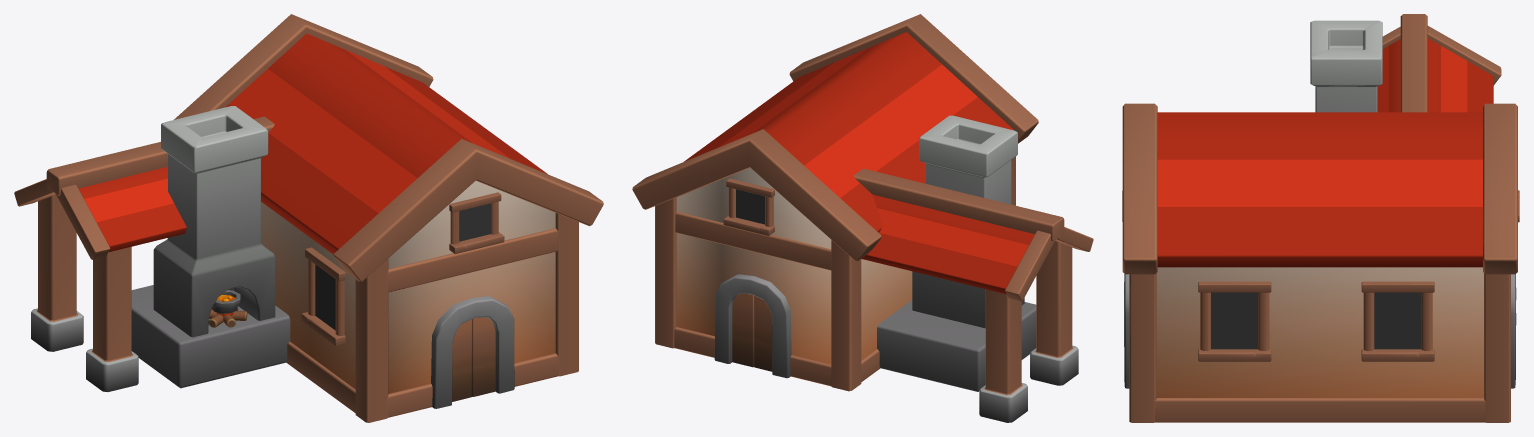
Rendered from WorkSpaceHouse_1.fbx.
The picture shows the model from 3 angles, left to right: view 1: azimuth 30°, elevation 25°; view 2: azimuth 150°, elevation 25°; view 3: azimuth 270°, elevation 25°; orthographic projection. The views are drawn at different scales.
Visible parts, largest first — view 1: WorkSpaceHouse_1; view 2: WorkSpaceHouse_1; view 3: WorkSpaceHouse_1.
Boxes of the visible parts, x1=… form: WorkSpaceHouse_1: x1=14, y1=14, x2=603, y2=422; WorkSpaceHouse_1: x1=632, y1=14, x2=1093, y2=422; WorkSpaceHouse_1: x1=1122, y1=14, x2=1519, y2=422.
Bounding box in the file's own units: 549 × 318 × 431.
